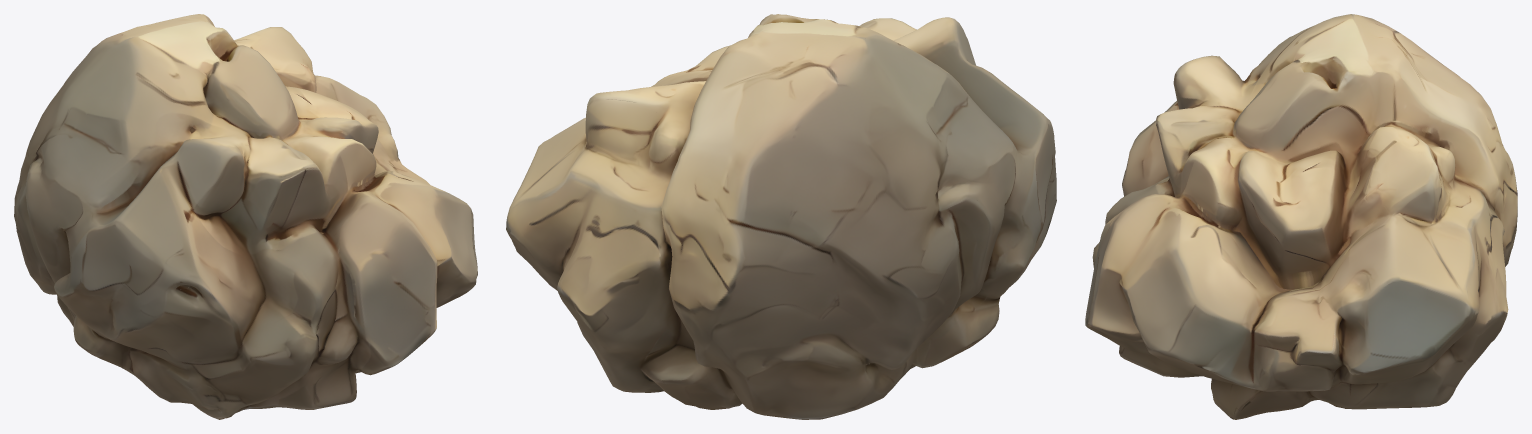
File: ores.glb
3 renders of one model, left to right at view 1: azimuth 30°, elevation 25°; view 2: azimuth 150°, elevation 25°; view 3: azimuth 270°, elevation 25°, orthographic. The views are drawn at different scales.
Parts seen in each view (by area): view 1: model; view 2: model; view 3: model.
Boxes of the visible parts, <box> form: model: <box>14,14,477,419</box>; model: <box>506,14,1056,419</box>; model: <box>1085,14,1517,419</box>.
Size of the model in its own units: 1.74 by 1.38 by 1.7.
Materials: 1 (1 with a texture image).
